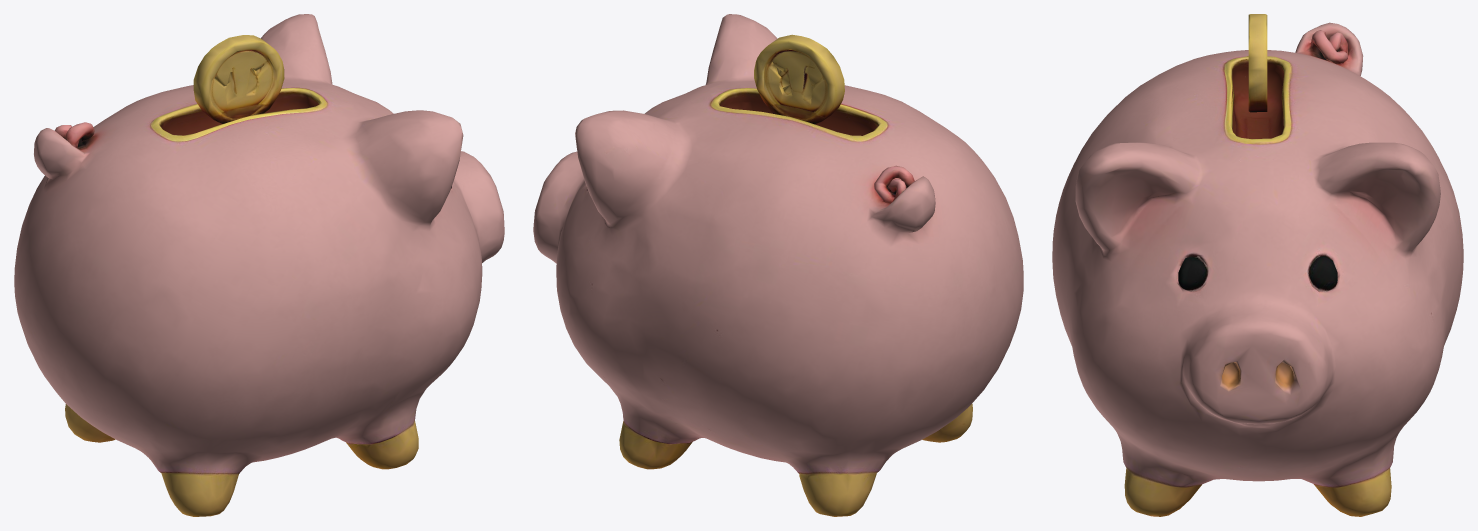
The model's file is piggy_bank.glb.
3 views of the same model, side by side, from view 1: azimuth 30°, elevation 25°; view 2: azimuth 150°, elevation 25°; view 3: azimuth 270°, elevation 25° (orthographic). The views are drawn at different scales.
Parts seen in each view (by area): view 1: tripo_node_a330e346-a496-42b2-8642-9091c42d1b57; view 2: tripo_node_a330e346-a496-42b2-8642-9091c42d1b57; view 3: tripo_node_a330e346-a496-42b2-8642-9091c42d1b57.
Part boxes in pixels (<box>): tripo_node_a330e346-a496-42b2-8642-9091c42d1b57: <box>14,14,504,516</box>; tripo_node_a330e346-a496-42b2-8642-9091c42d1b57: <box>533,14,1023,516</box>; tripo_node_a330e346-a496-42b2-8642-9091c42d1b57: <box>1052,14,1463,516</box>.
Size of the model in its own units: 0.9803 by 0.8862 by 0.751.
1 material, 1 textured.
